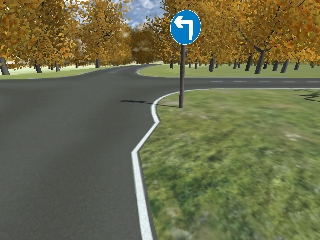left: (169, 9, 202, 46)
